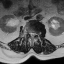CCS_normal: (31, 30, 33, 39)
LFS_stenosis: (35, 31, 37, 37)
LLS_normal: (33, 31, 35, 37)
RFS_stenosis: (27, 30, 29, 35)
RLS_normal: (29, 30, 31, 38)
